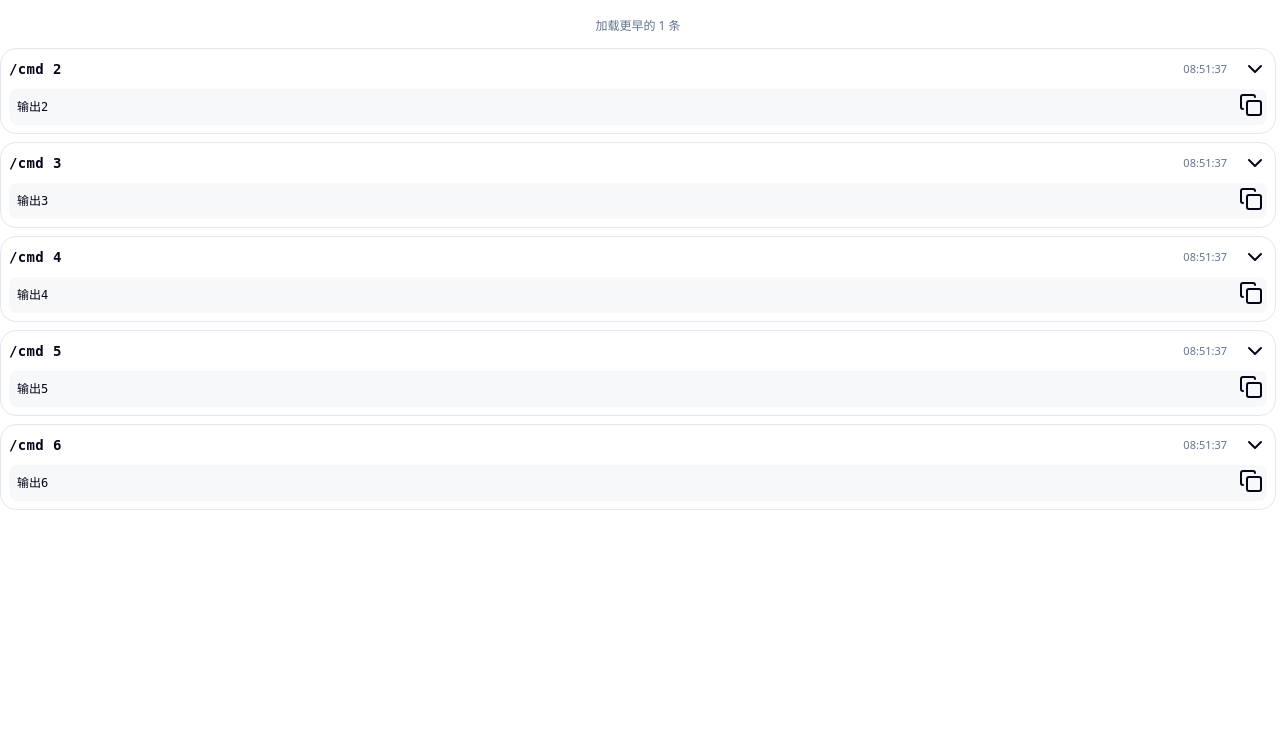
Scenario: ResultPanel › 默认只渲染最近 5 条，点「加载更早」展开旧结果
The image size is (1280, 732).
Expected: the text "/cmd 1" is not shown
Expected: the heading "/cmd 6" is shown, [9,437,62,453]
Click the button "加载更早的 1 条": (638, 26) [583,12,692,40]
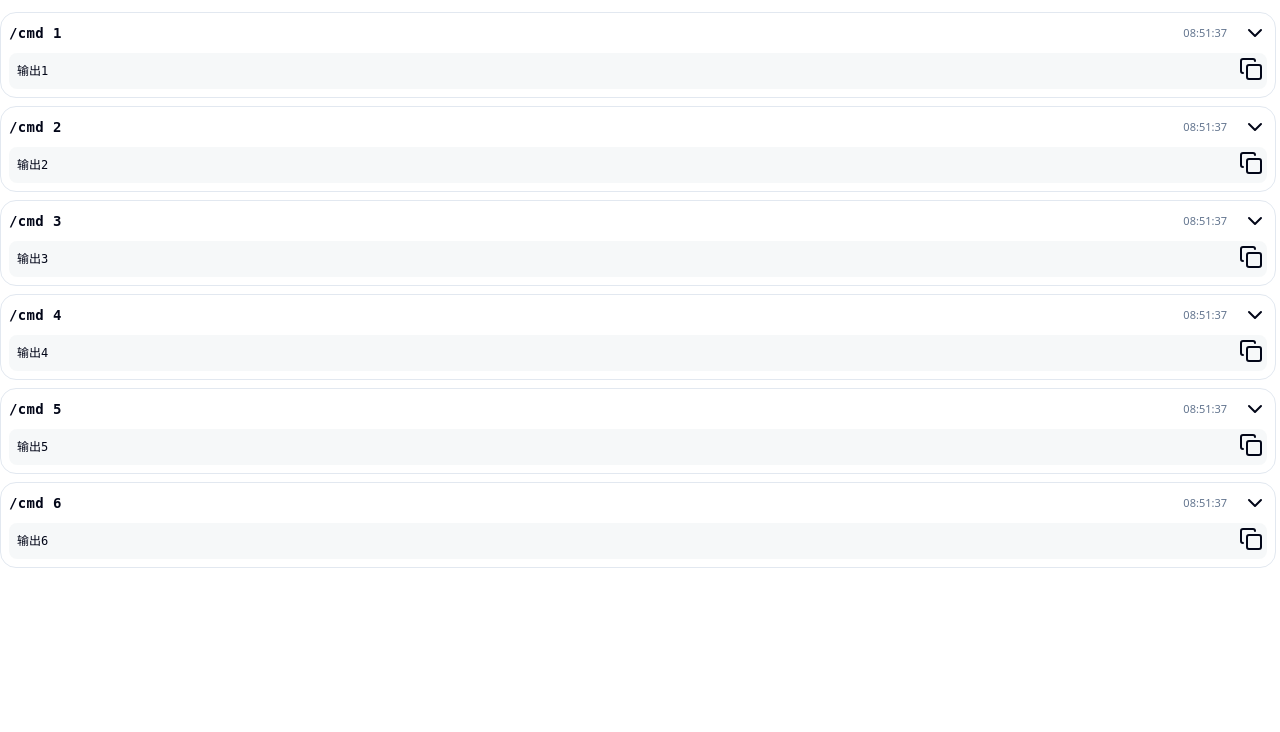
Now the heading "/cmd 1" is shown, box [9,25,62,41]
